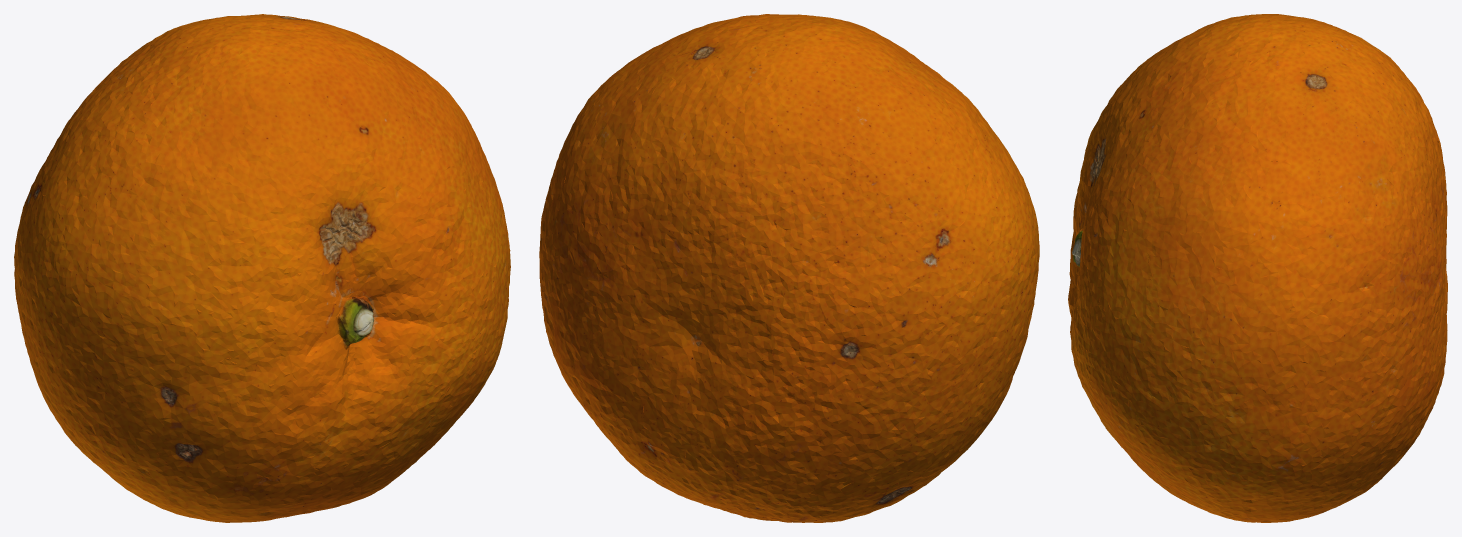
The model's file is amanatsu.obj.
The picture shows the model from 3 angles, left to right: view 1: azimuth 30°, elevation 25°; view 2: azimuth 150°, elevation 25°; view 3: azimuth 270°, elevation 25°; orthographic projection. The views are drawn at different scales.
Bounding box in the file's own units: 2.37 × 2.4 × 1.82.
Materials: 1 (1 with a texture image).
